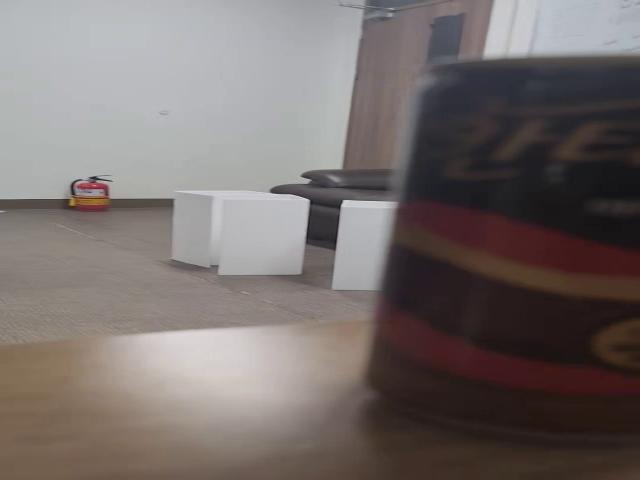Canned_drinks: (387, 66, 640, 443)
